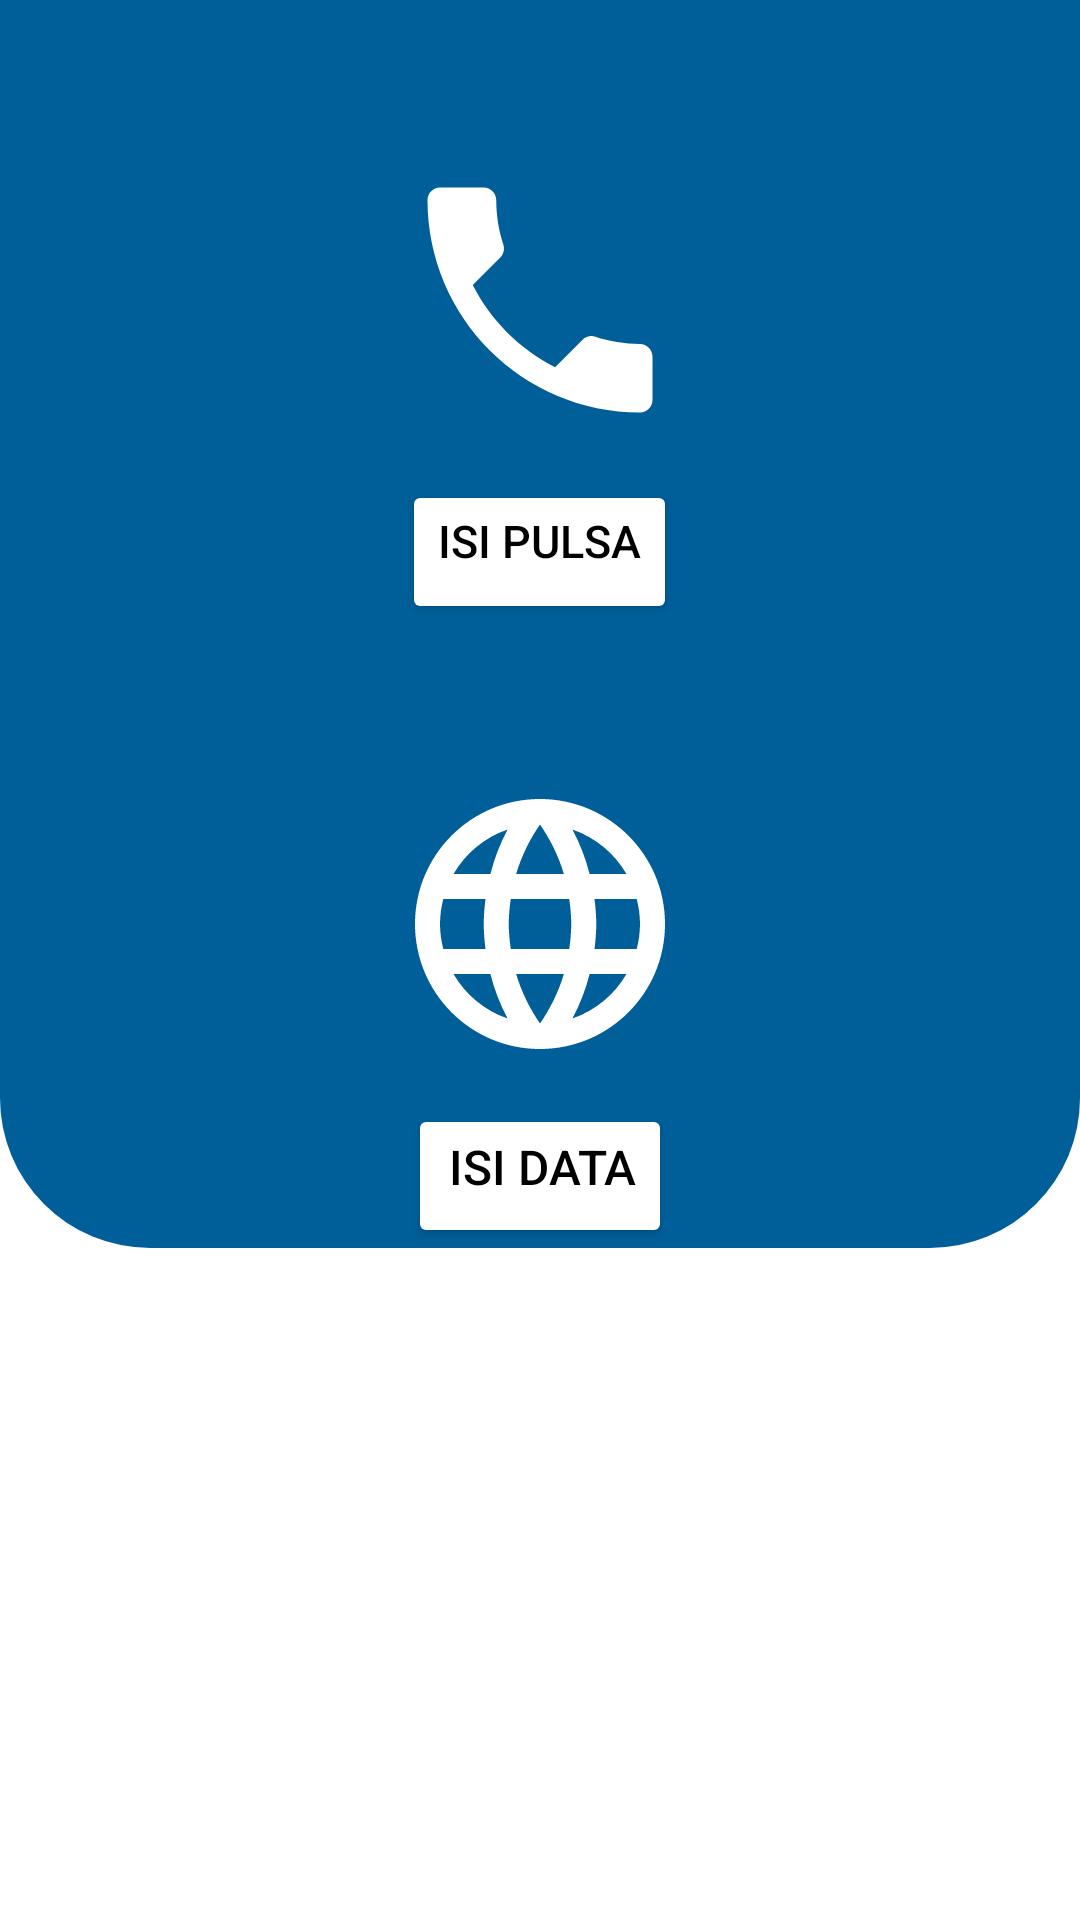

Locate icon controls on the screen. Image size 1080x1920, boxes as [x1,y1,x2,y2].
languange: [415,799,665,1049]
phone: [427,187,653,413]
